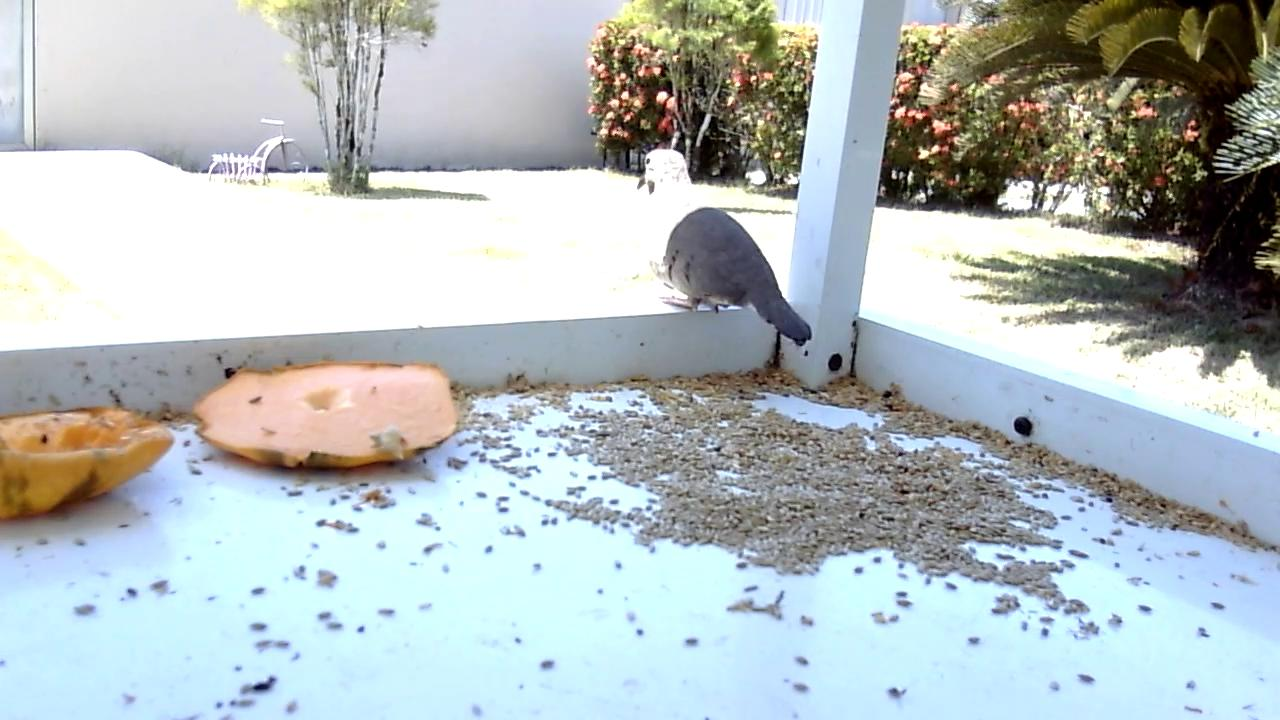rolinha: (632, 147, 815, 347)
